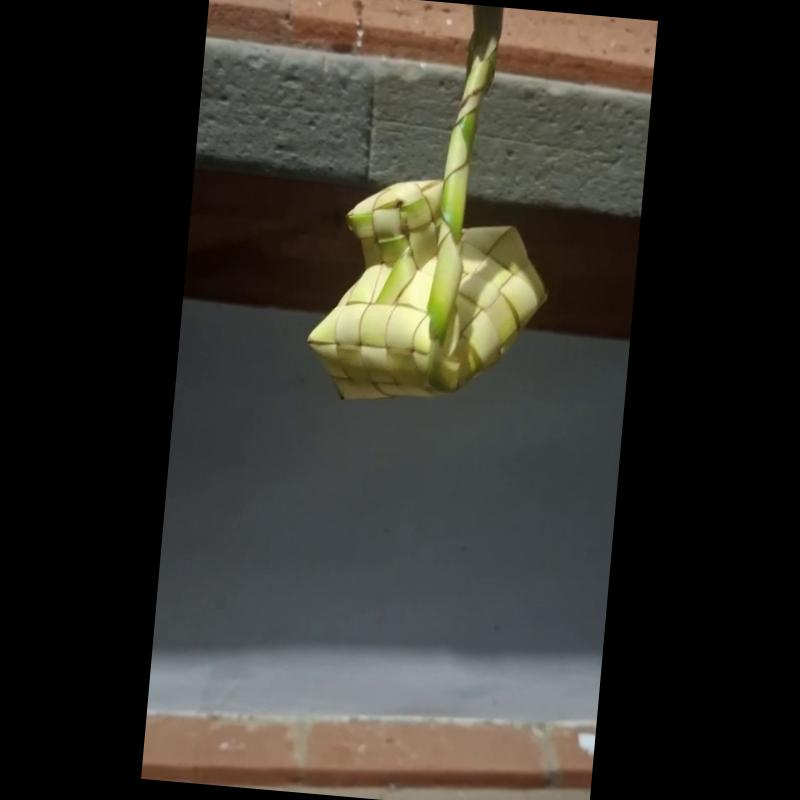Tipat Gong: (308, 5, 542, 407)
